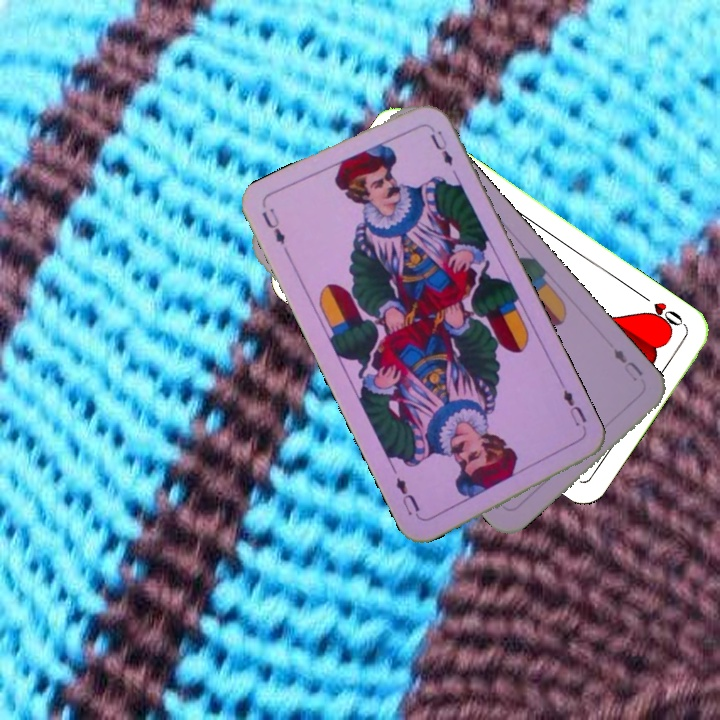EU: (559, 386, 590, 437), (609, 344, 646, 384), (258, 204, 288, 247)
HO: (636, 289, 688, 334)
